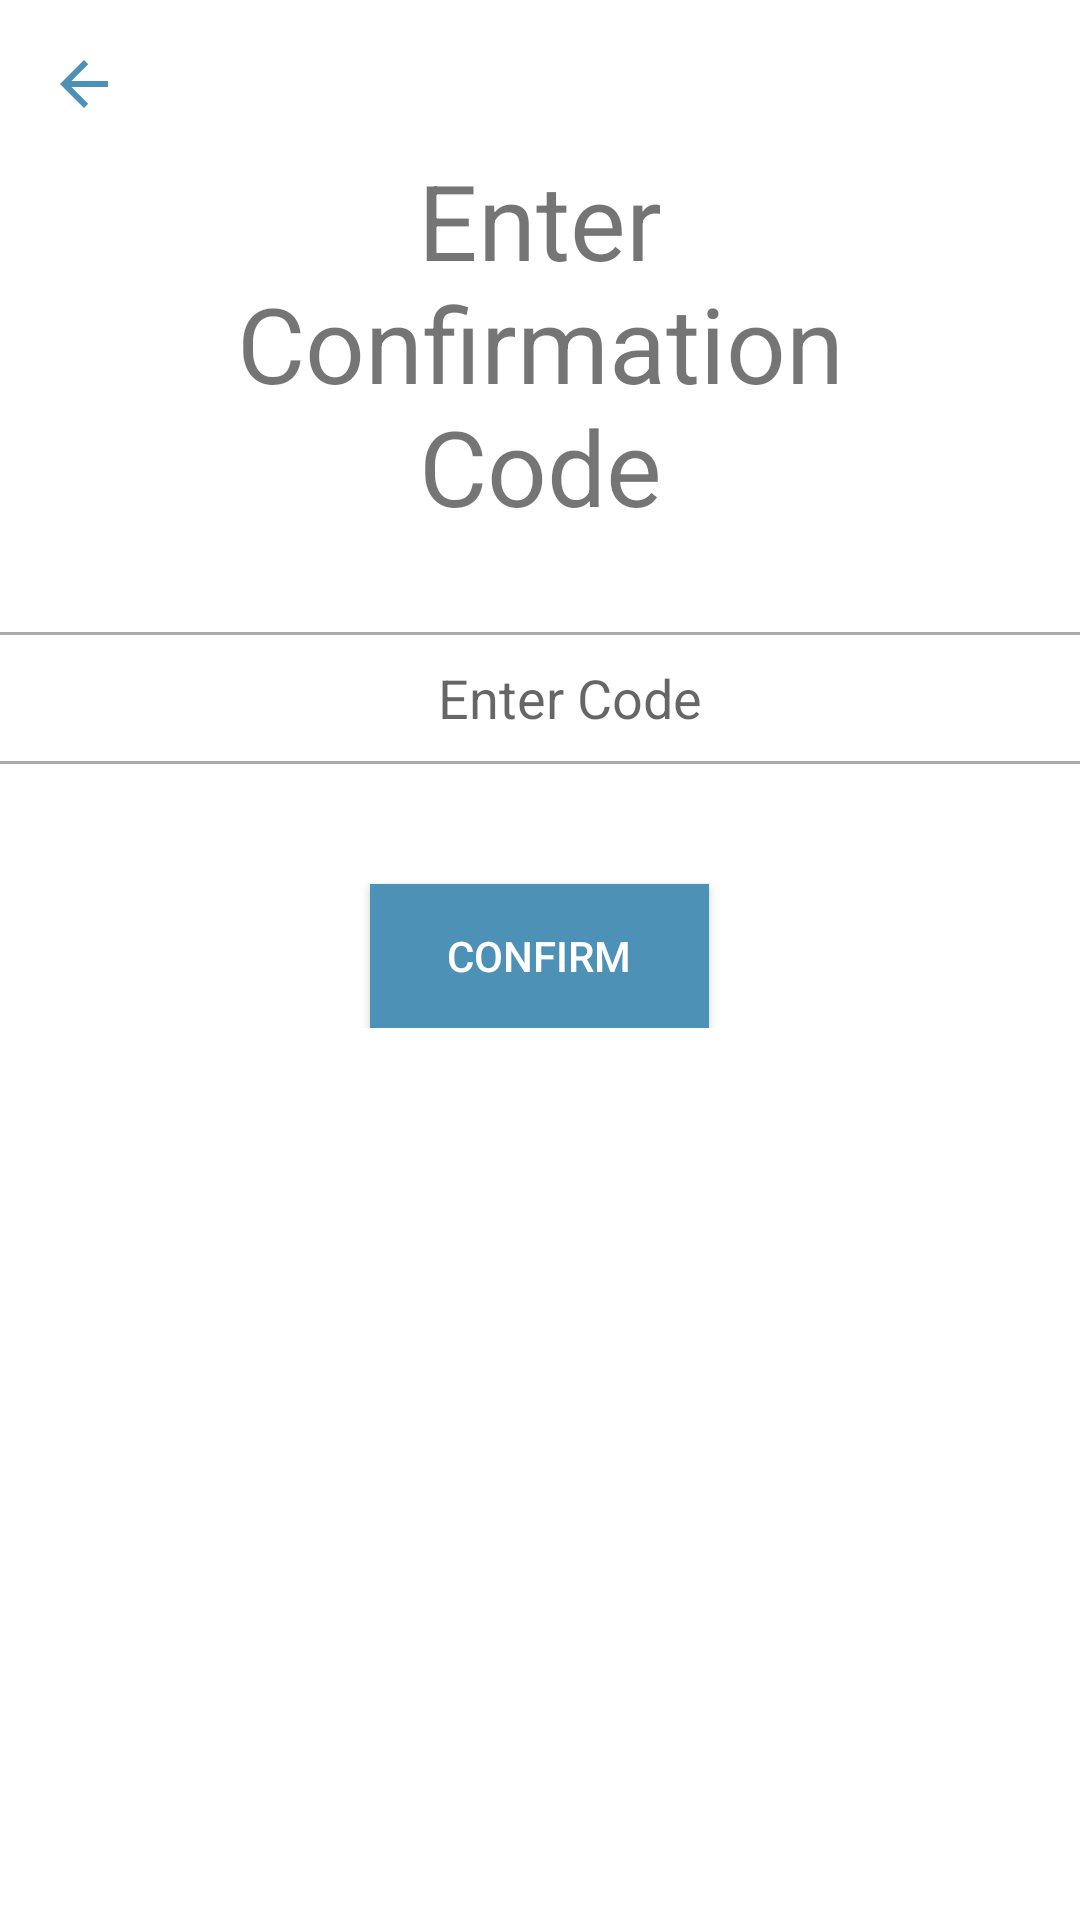

Where to tap for icons on this 1080 x 1920 app screen, as (x=x, y=y):
Return to previous page: (x=84, y=84)
